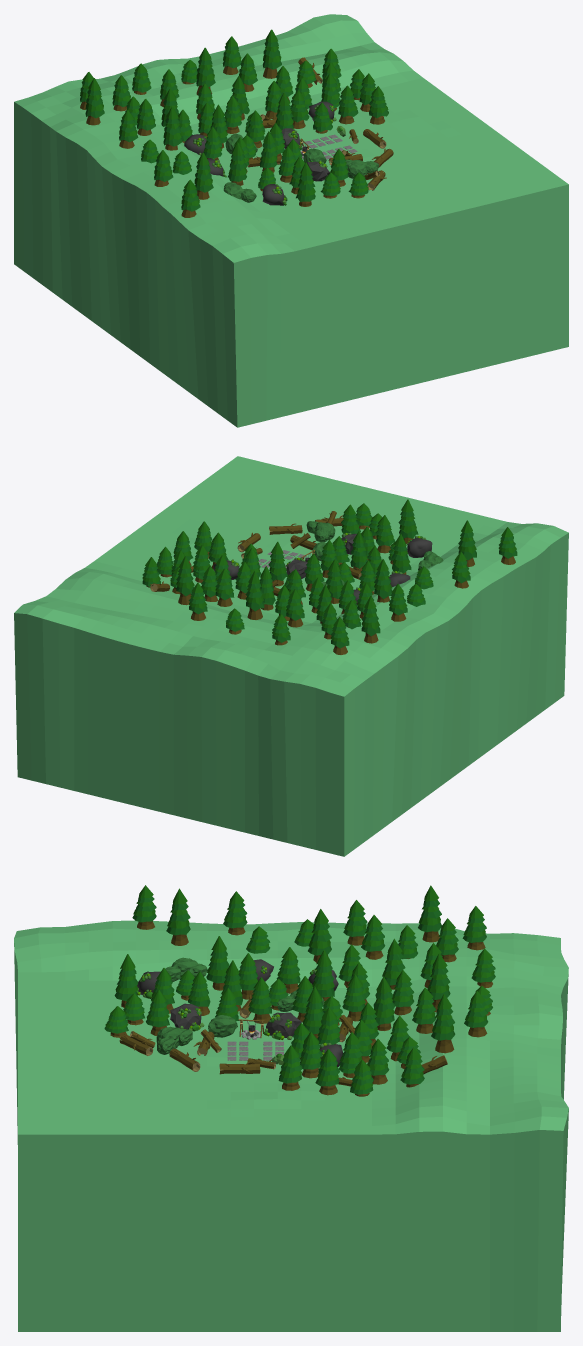
The model's file is Final Forest.fbx.
3 renders of one model, top to bottom at view 1: azimuth 30°, elevation 25°; view 2: azimuth 150°, elevation 25°; view 3: azimuth 270°, elevation 25°, orthographic. The views are drawn at different scales.
Parts seen in each view (by area): view 1: Cube.029, Cylinder.062, Cylinder.057, Cylinder.052, Cylinder.054, Cylinder.023, Cylinder.043, Cylinder.003, Cylinder.064, Cylinder.009, Cylinder.048, Cylinder.063 (+4 smaller); view 2: Cube.029, Cylinder.043, Cylinder.057, Cylinder.062, Cylinder.054, Cylinder.052, Cylinder.036, Cylinder.023, Cylinder.003, Cylinder.030, Cylinder.045, Cylinder.063 (+6 smaller); view 3: Cube.029, Cylinder.062, Cylinder.052, Cylinder.057, Cylinder.012, Cylinder.003, Cylinder.013, Cylinder.054, Cylinder.063, Cylinder.064, Cylinder.039, Cylinder.030 (+25 smaller).
Part boxes in pixels (<box>): Cube.029: <box>14,14,568,427</box>; Cylinder.062: <box>262,29,281,78</box>; Cylinder.057: <box>85,78,104,125</box>; Cylinder.052: <box>194,152,213,199</box>; Cylinder.054: <box>163,106,182,150</box>; Cylinder.023: <box>296,162,315,206</box>; Cylinder.043: <box>196,47,215,95</box>; Cylinder.003: <box>228,142,246,185</box>; Cylinder.064: <box>369,86,388,124</box>; Cylinder.009: <box>338,85,358,124</box>; Cylinder.048: <box>119,110,138,148</box>; Cylinder.063: <box>222,36,241,74</box>; Cube.029: <box>14,456,568,856</box>; Cylinder.043: <box>245,571,264,619</box>; Cylinder.057: <box>361,596,380,643</box>; Cylinder.062: <box>176,556,194,605</box>; Cylinder.054: <box>374,559,392,602</box>; Cylinder.052: <box>458,520,476,567</box>; Cylinder.036: <box>268,541,287,586</box>; Cylinder.023: <box>398,499,418,543</box>; Cylinder.003: <box>392,534,411,574</box>; Cylinder.030: <box>215,568,234,606</box>; Cylinder.045: <box>286,589,304,627</box>; Cylinder.063: <box>188,582,207,620</box>; Cube.029: <box>14,920,568,1331</box>; Cylinder.062: <box>431,994,455,1053</box>; Cylinder.052: <box>166,888,190,945</box>; Cylinder.057: <box>418,885,441,942</box>; Cylinder.012: <box>373,977,394,1030</box>; Cylinder.003: <box>206,936,229,990</box>; Cylinder.013: <box>315,1049,339,1095</box>; Cylinder.054: <box>308,909,331,962</box>; Cylinder.063: <box>464,991,488,1037</box>; Cylinder.064: <box>278,1045,302,1090</box>; Cylinder.039: <box>248,977,271,1023</box>; Cylinder.030: <box>412,987,436,1033</box>.
Bounding box in the file's own units: 4072 × 2467 × 4667.
